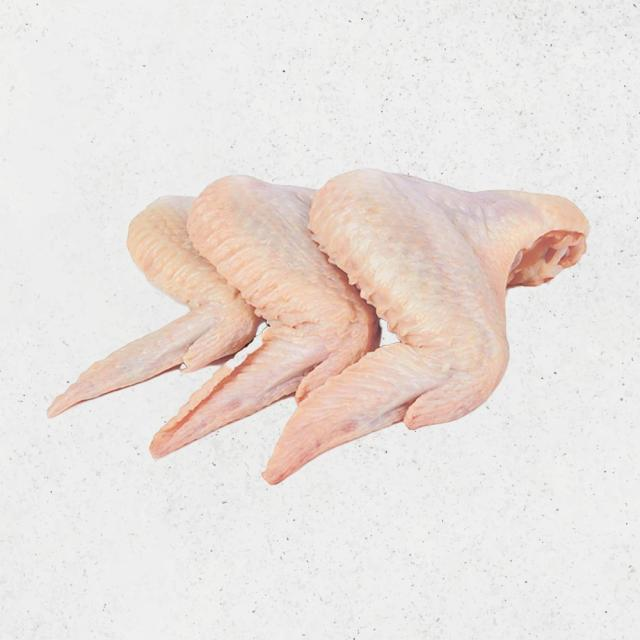wing: (317, 158, 582, 492), (189, 165, 364, 459), (46, 175, 254, 403)
